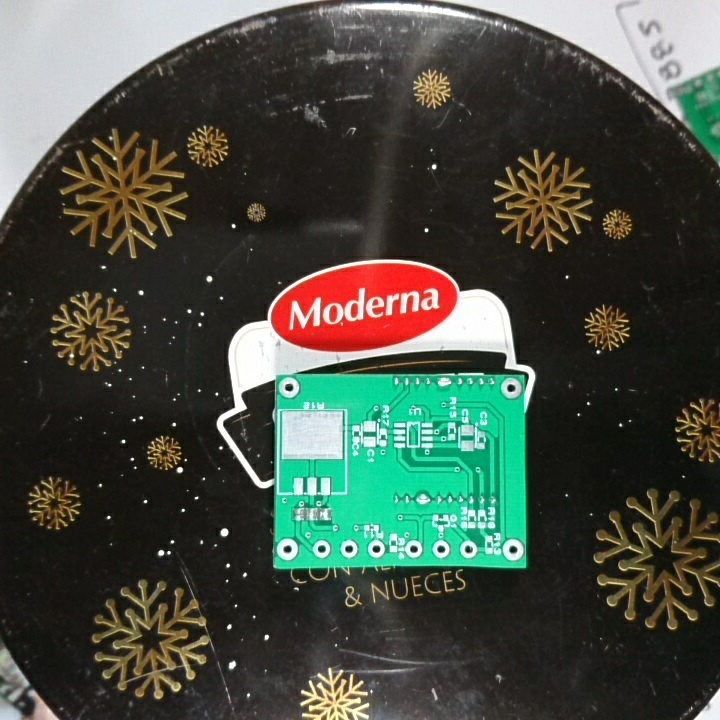F: (499, 376, 525, 403), (500, 537, 526, 563), (275, 537, 300, 564), (277, 375, 302, 401), (337, 538, 362, 562), (364, 537, 388, 561), (402, 538, 425, 561), (431, 538, 453, 561), (458, 538, 479, 560), (312, 538, 332, 560)
P: (434, 375, 454, 392), (414, 491, 433, 508)
